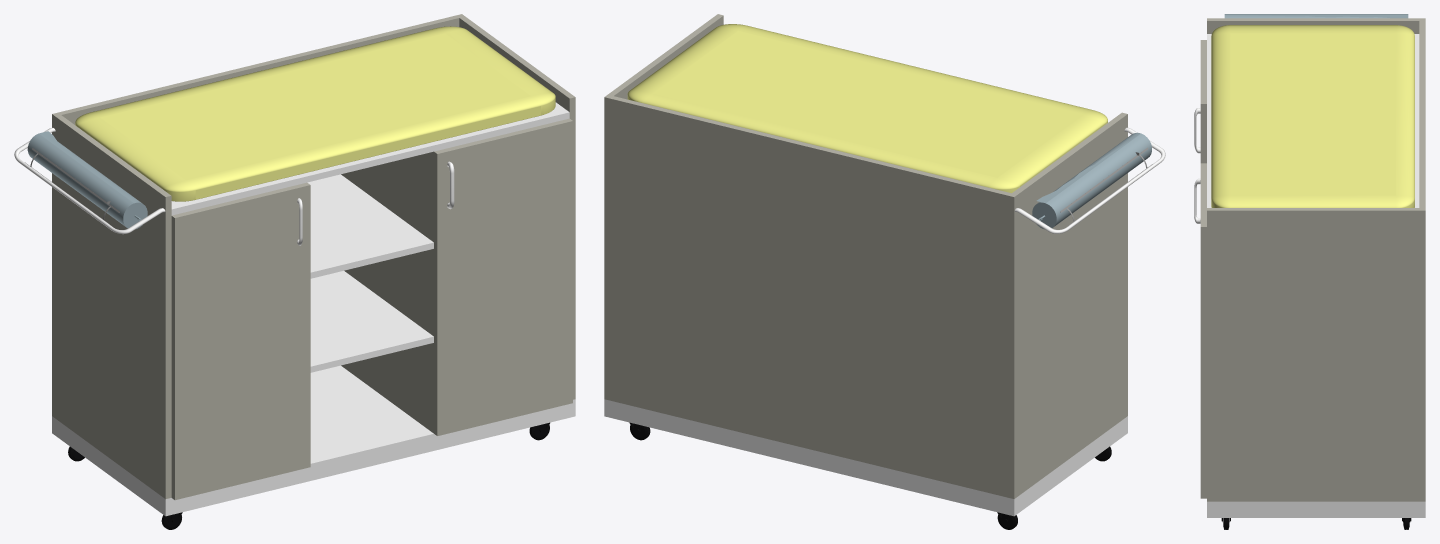
File: cambiadorP.obj
The picture shows the model from 3 angles, left to right: view 1: azimuth 30°, elevation 25°; view 2: azimuth 150°, elevation 25°; view 3: azimuth 270°, elevation 25°; orthographic projection. The views are drawn at different scales.
Parts seen in each view (by area): view 1: Group_001, Component_1_010, Component_1_009, Component_1_002, Group_002, Component_1_006, Component_1_008, Component_1_007, Component_1_004, Group_007, Component_1_003, Component_1_001 (+1 smaller); view 2: Component_1_003, Group_001, Component_1_002, Group_002, Group_007, Component_1_001, Group_005; view 3: Component_1_001, Group_001, Group_002, Component_1_009, Component_1_004, Component_1_002, Component_1_003, Group_007, Component_1_010.
Part boxes in pixels (x1,y1,x2,y2): Group_001: [75, 26, 555, 201]; Component_1_010: [171, 182, 310, 500]; Component_1_009: [434, 118, 572, 435]; Component_1_002: [52, 112, 171, 499]; Group_002: [52, 365, 575, 516]; Component_1_006: [341, 151, 433, 433]; Component_1_008: [307, 174, 433, 278]; Component_1_007: [310, 271, 433, 372]; Component_1_004: [171, 102, 569, 215]; Group_007: [27, 131, 147, 228]; Component_1_003: [58, 15, 459, 124]; Component_1_001: [456, 14, 575, 399]; Component_1_003: [610, 96, 1011, 497]; Group_001: [627, 24, 1107, 193]; Component_1_002: [1008, 112, 1127, 498]; Group_002: [604, 399, 1127, 516]; Group_007: [1032, 132, 1151, 229]; Component_1_001: [604, 14, 723, 400]; Group_005: [1014, 127, 1165, 233]; Component_1_001: [1207, 208, 1425, 501]; Group_001: [1211, 25, 1414, 207]; Group_002: [1207, 501, 1425, 517]; Component_1_009: [1200, 163, 1206, 498]; Component_1_004: [1207, 34, 1419, 207]; Component_1_002: [1207, 18, 1425, 33]; Component_1_003: [1419, 21, 1425, 207]; Group_007: [1224, 14, 1408, 18]; Component_1_010: [1200, 40, 1206, 163].
Bounding box in the file's own units: 21.36 × 15.44 × 9.81.
Materials: 7 (5 with a texture image).
